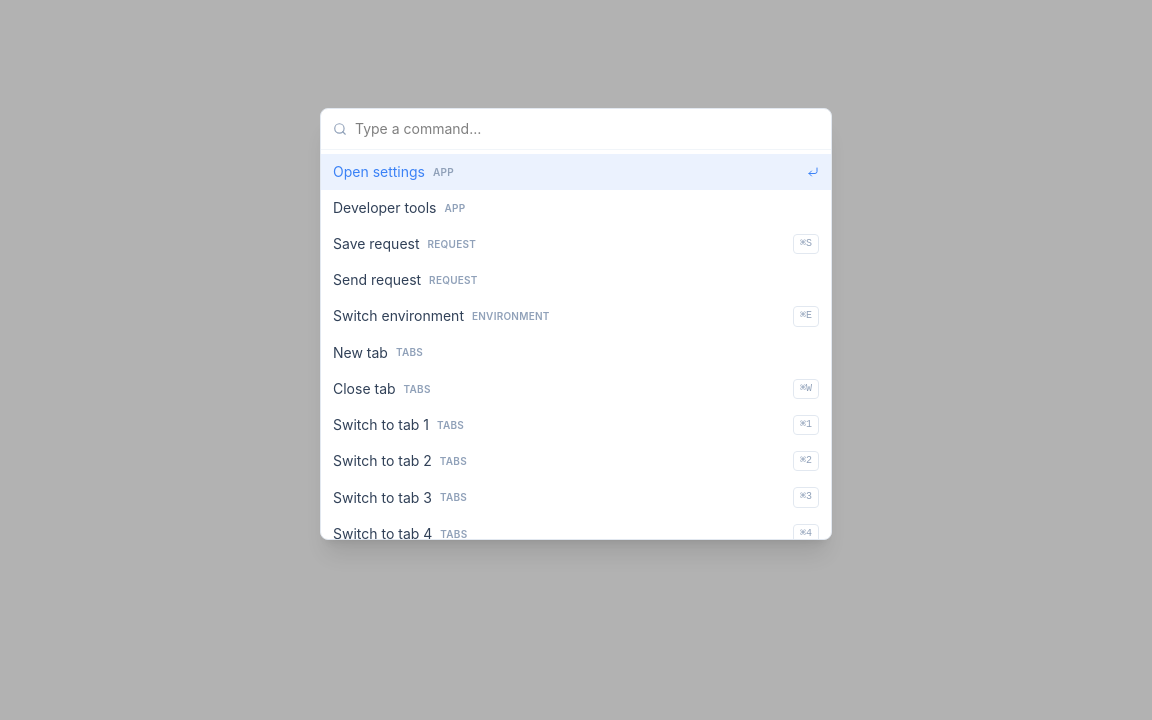
Test: CommandPalette › filters by typed text
Type "environment" into the field with placeholder "Type a command…". click: (587, 129)
box: 355,119 -> 819,139
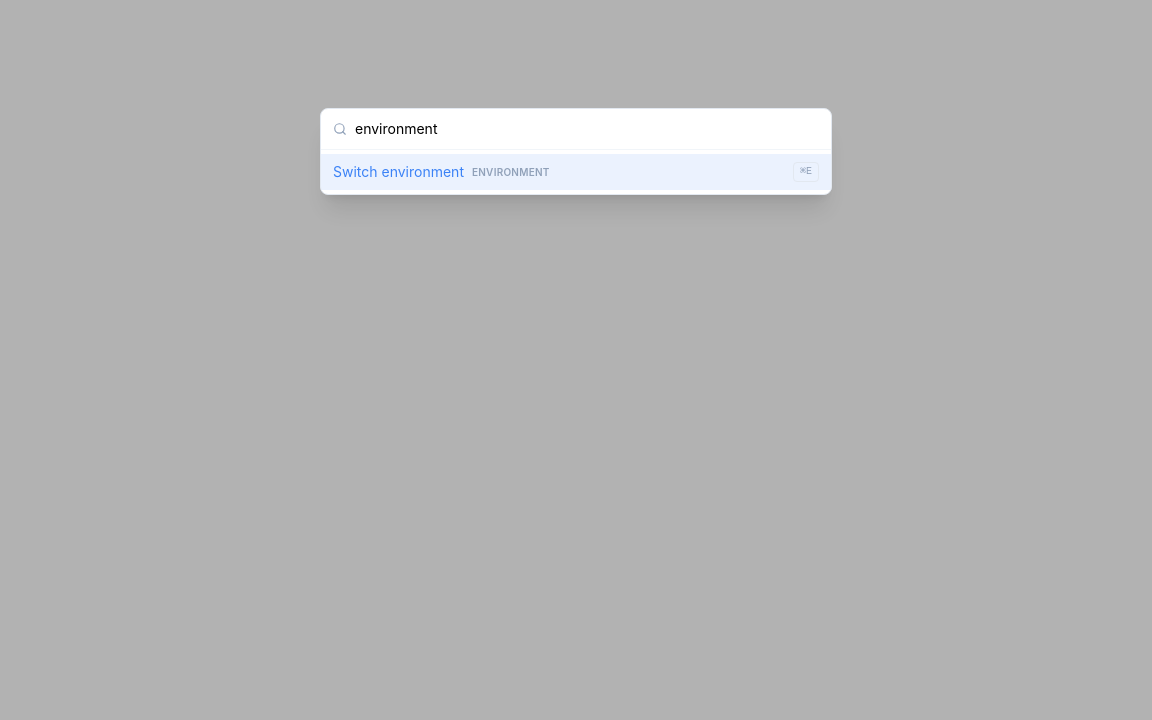
Expected: the text "Switch environment" is shown, 333,162 -> 464,182
Now the button "Save request" is gone
